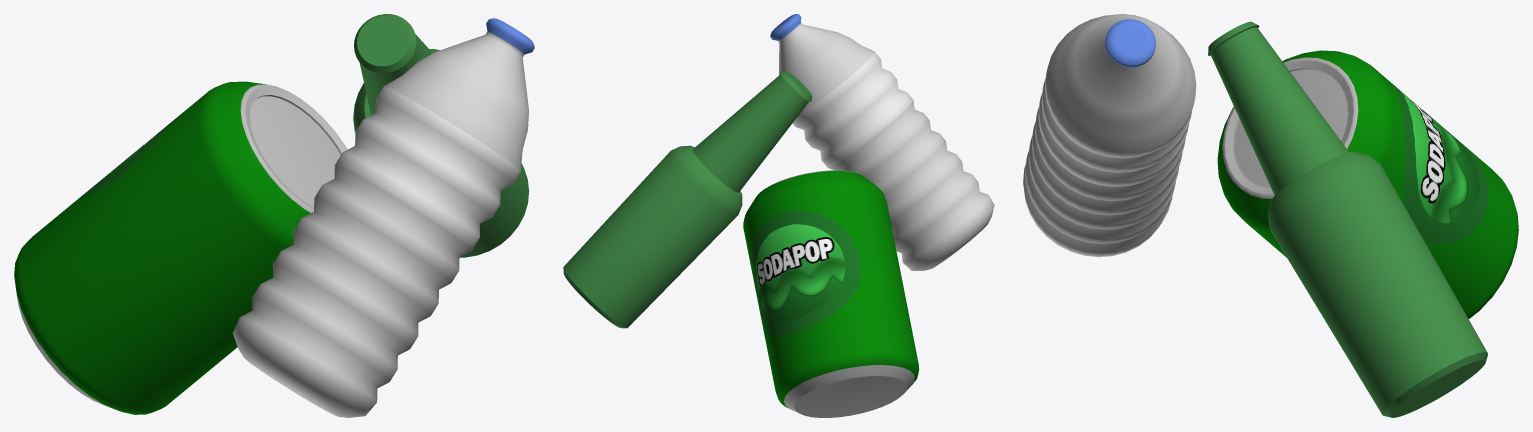
3 views of the same model, side by side, from view 1: azimuth 30°, elevation 25°; view 2: azimuth 150°, elevation 25°; view 3: azimuth 270°, elevation 25° (orthographic). The views are drawn at different scales.
Parts seen in each view (by area): view 1: can00, waterbottle00, beerbottle00; view 2: can00, waterbottle00, beerbottle00; view 3: beerbottle00, waterbottle00, can00.
Boxes of the visible parts, left/top/right/bottom form: can00: left=14, top=81, right=347, bottom=414; waterbottle00: left=233, top=18, right=534, bottom=417; beerbottle00: left=353, top=14, right=528, bottom=257; can00: left=743, top=170, right=919, bottom=417; waterbottle00: left=770, top=14, right=994, bottom=270; beerbottle00: left=563, top=71, right=812, bottom=328; beerbottle00: left=1208, top=21, right=1487, bottom=417; waterbottle00: left=1023, top=14, right=1196, bottom=256; can00: left=1217, top=50, right=1518, bottom=318.
Bounding box in the file's own units: 114 × 94.44 × 105.
Materials: 6 (1 with a texture image).
